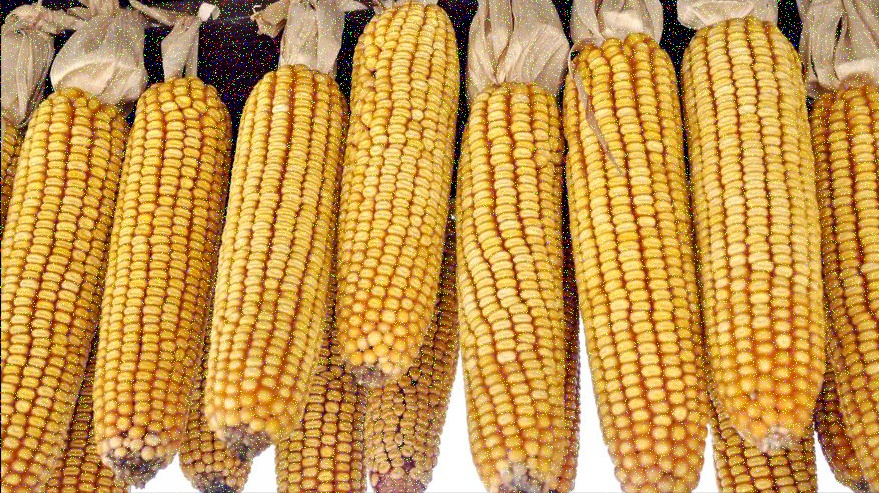corn: (563, 37, 707, 485), (680, 16, 824, 448), (339, 0, 459, 385), (2, 88, 118, 476), (459, 87, 567, 492), (221, 69, 324, 451), (108, 85, 196, 471)
